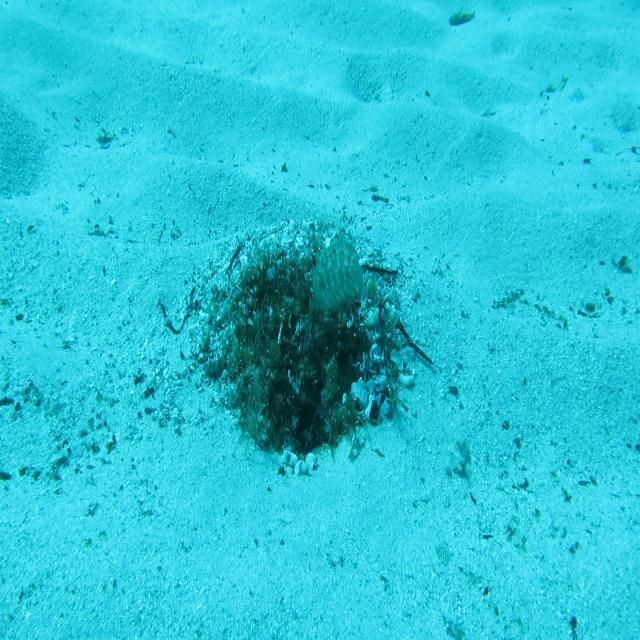core_nest: (270, 275, 319, 316)
nest: (191, 214, 435, 492)
vegetation: (446, 6, 476, 31)
